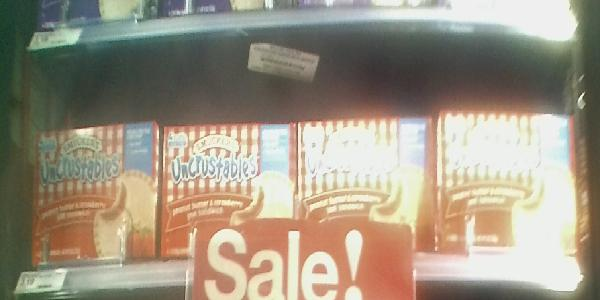icecream: (436, 111, 578, 262), (159, 116, 300, 267), (30, 121, 158, 278), (299, 119, 434, 254)
